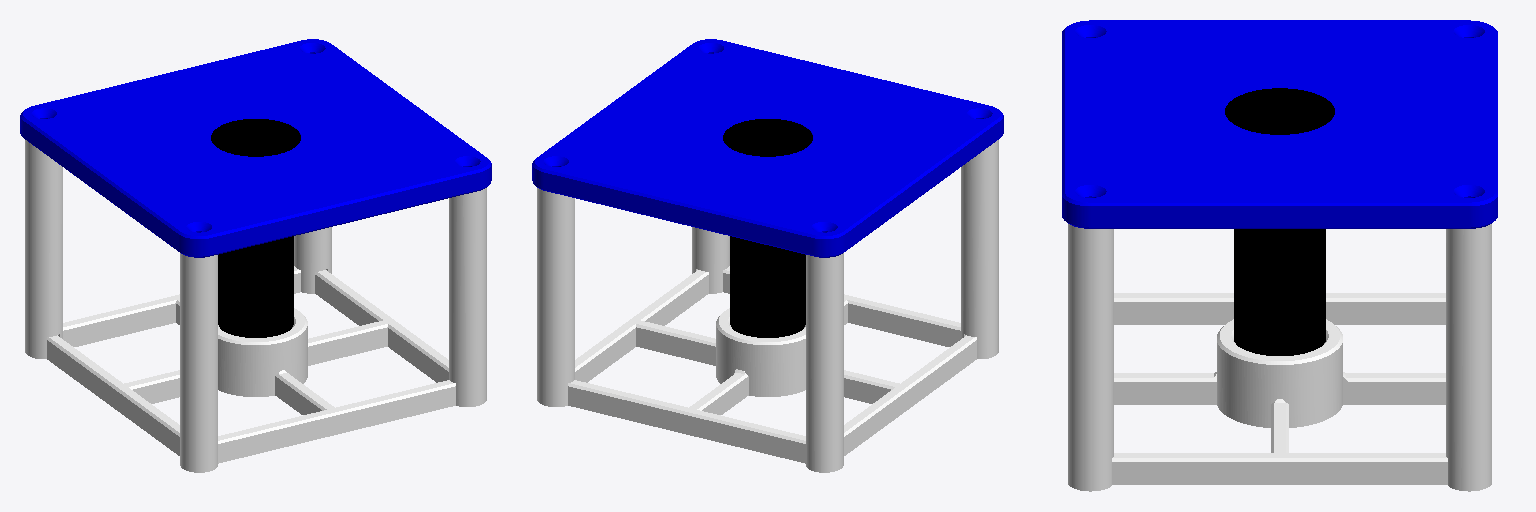
URDF robot description (target_model):
<?xml version="1.0"?>
<robot name="target_model">
    <link name="world"/>

    <joint name="floating_base" type="floating">
        <parent link="world"/>
        <child link="target"/>
        <origin xyz="0 0 0" rpy="0 0 0"/>
    </joint>

    <link name="target">
        <visual>
            <origin xyz="0 0 0" rpy="0 0 0"/>
            <geometry>
                <!--<mesh filename="package://test_cube/description/meshes/visual/turtle.dae"/> -->
                <mesh filename="package://franka_integ_sim/description/robot/dae/target.dae"/>
            </geometry>
           
        </visual>
        <collision>
            <origin xyz="0 0 0" rpy="0 0 0"/>
            <geometry>
                <!--<mesh filename="package://test_cube/description/meshes/collision/turtle.stl"/> -->
                <mesh filename="package://franka_integ_sim/description/robot/stl/target.stl"/> 
            </geometry>
        </collision>
        <inertial>
            <mass value="0.50"/>
            <inertia ixx="0.00333" ixy="0.0" ixz="0.0"
                     iyy="0.00333" iyz="0.0"
                     izz="0.00333"/>
        </inertial>
    </link>

    <gazebo reference="target">
        <gravity>1</gravity>  
        <self_collide>1</self_collide>
        <static>1</static>
    </gazebo>
</robot>

--- What the picture shows (computed from the rendered views, not written in the file) ---
Views: 3 orthographic renders of the robot side by side, from view 1: azimuth 30°, elevation 25°; view 2: azimuth 150°, elevation 25°; view 3: azimuth 270°, elevation 25°.
Robot: target_model — 2 links, 1 joints (1 floating); root link world; default pose: all joints at 0.
Links seen in each view (by area): view 1: target; view 2: target; view 3: target.
Boxes of the visible links, x1=… form: target: x1=20, y1=39, x2=491, y2=472; target: x1=532, y1=39, x2=1003, y2=472; target: x1=1062, y1=20, x2=1497, y2=491.
Bounding box of the posed robot: 0.15 × 0.15 × 0.11 m (x, y, z).
Meshes: 1 distinct files referenced, 1 mesh visuals loaded (1 Collada DAE).